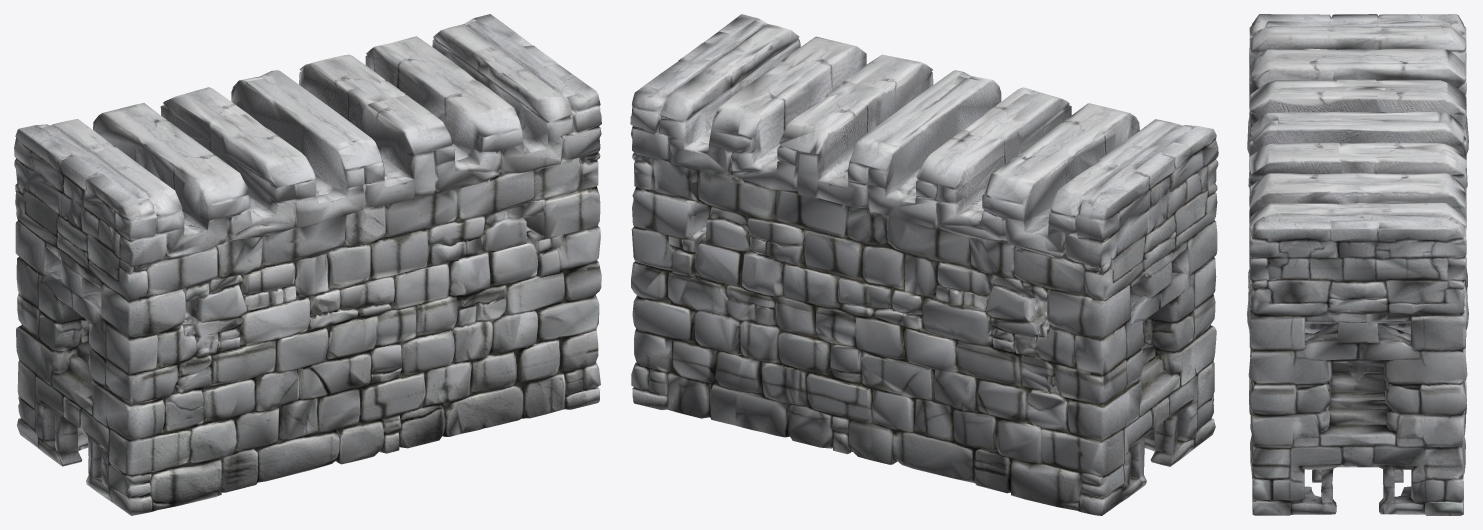
The model's file is wall_segment.glb.
The picture shows the model from 3 angles, left to right: view 1: azimuth 30°, elevation 25°; view 2: azimuth 150°, elevation 25°; view 3: azimuth 270°, elevation 25°; orthographic projection. The views are drawn at different scales.
Visible parts, largest first — view 1: mesh_node; view 2: mesh_node; view 3: mesh_node.
Boxes of the visible parts, <box> form: mesh_node: <box>14,14,601,515</box>; mesh_node: <box>630,14,1218,515</box>; mesh_node: <box>1247,14,1468,515</box>.
Size of the model in its own units: 6 by 3.76 by 2.61.
Materials: 1 (1 with a texture image).
